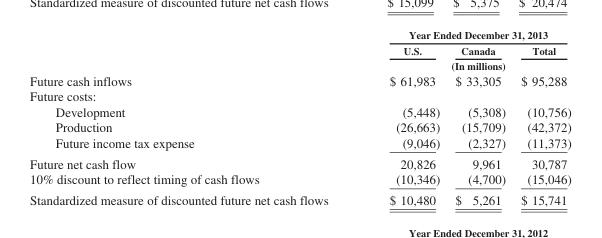table: (28, 28, 570, 206)
table column: (28, 28, 358, 206), (358, 28, 446, 206), (446, 28, 512, 206), (512, 28, 570, 206)
table column header: (28, 28, 570, 72)
table projected row header: (28, 88, 570, 103)
table row: (28, 134, 570, 152), (28, 152, 570, 170), (28, 170, 570, 188), (28, 188, 570, 206), (28, 72, 570, 88), (28, 103, 570, 119), (28, 42, 570, 57), (28, 57, 570, 72), (28, 88, 570, 103), (28, 119, 570, 134), (28, 28, 570, 42)
table spanning cell: (358, 57, 570, 72), (358, 28, 570, 42)
